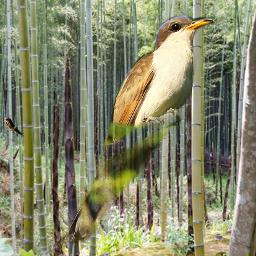Cuckoo: (63, 11, 218, 247)
Swallow: (4, 117, 24, 137)
